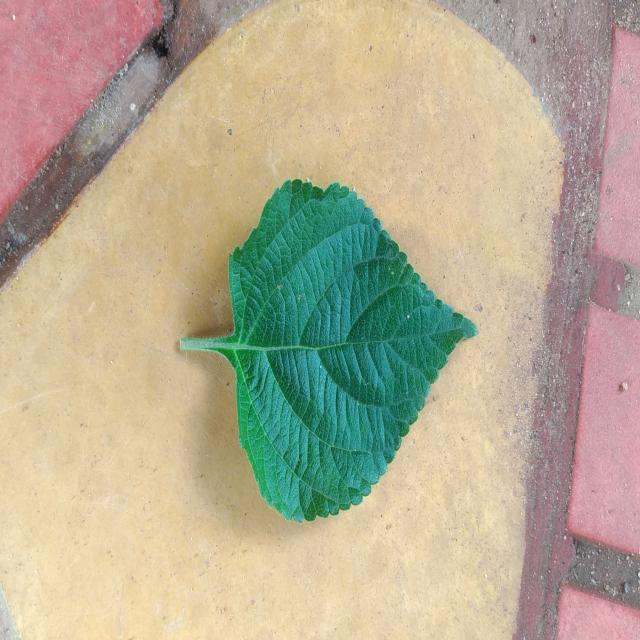Lantana: (180, 180, 478, 522)
